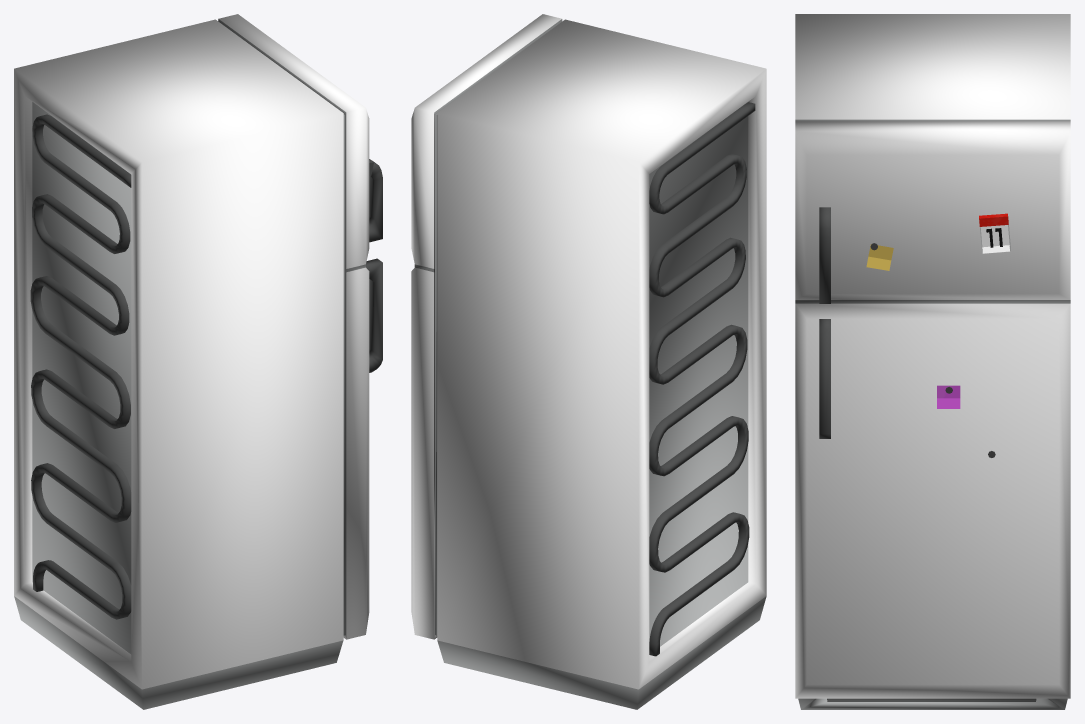
Rendered from fridge.glb.
3 views of the same model, side by side, from view 1: azimuth 30°, elevation 25°; view 2: azimuth 150°, elevation 25°; view 3: azimuth 270°, elevation 25° (orthographic). The views are drawn at different scales.
Visible parts, largest first — view 1: Fridge_0; view 2: Fridge_0; view 3: Fridge_0.
Part boxes in pixels (x1,y1,x2,y2): Fridge_0: (14,14,382,709); Fridge_0: (411,14,766,709); Fridge_0: (795,14,1070,709).
Size of the model in its own units: 0.8694 by 1.81 by 0.7646.
Materials: 1 (1 with a texture image).
